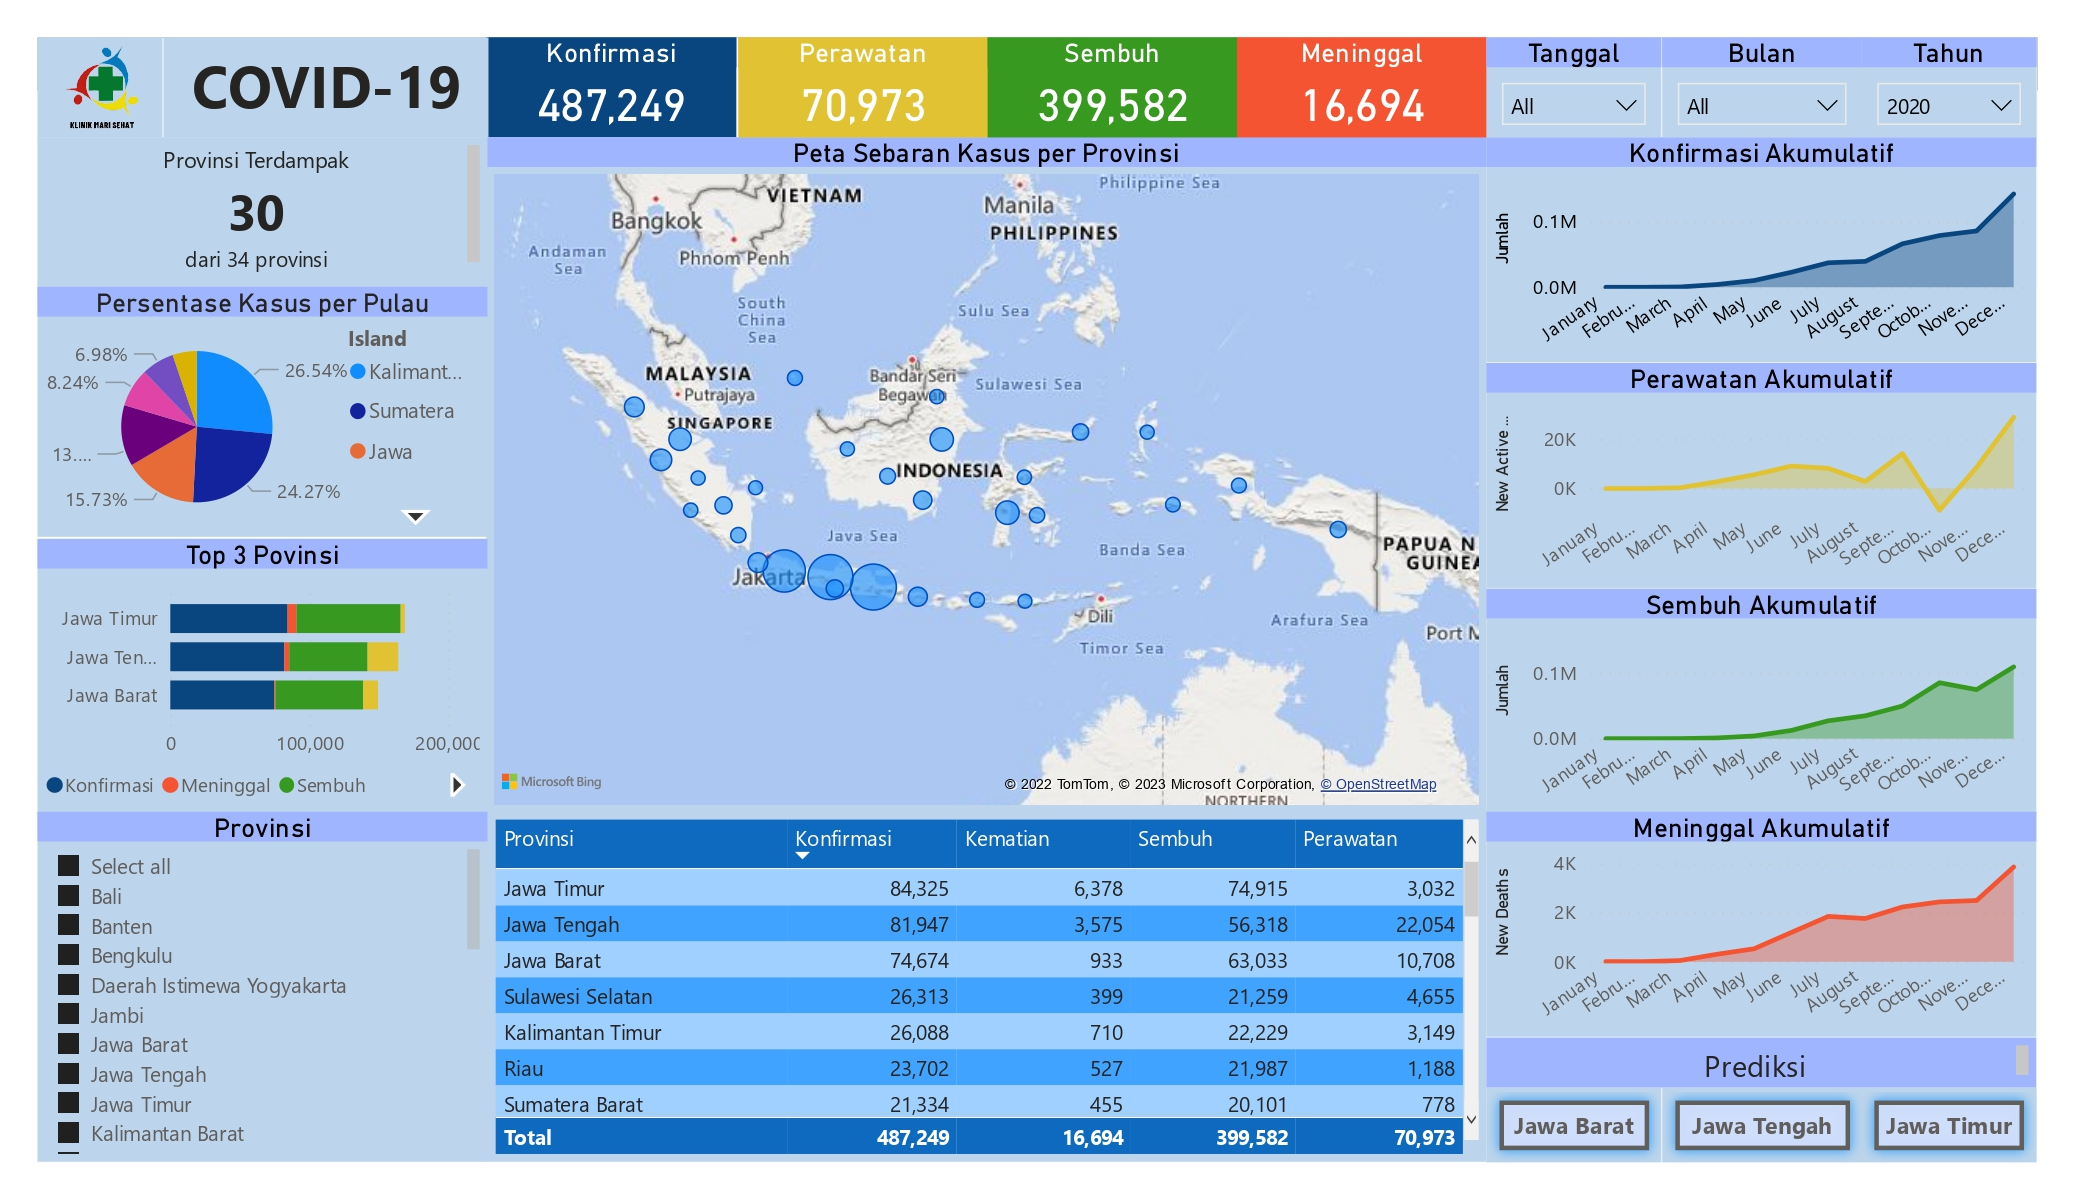

This screenshot's page, from the dashboard's own definition file:
{"tool":"powerbi","page":{"name":"Halaman Utama","canvas":[1280,720],"ordinal":0},"visuals":[{"type":"card","title":"Konfirmasi","fields":{"Values":["Sum(MariSehat_Clean.New Cases)"]},"box":[288,0,160,64],"z":0},{"type":"map","title":"Peta Sebaran Kasus per Provinsi","fields":{"Category":["MariSehat_Clean.Province"],"Size":["Sum(MariSehat_Clean.New Cases)"]},"box":[288,64,640,432],"z":1000},{"type":"tableEx","title":"Deaths by Countries","fields":{"Values":["MariSehat_Clean.Province","Sum(MariSehat_Clean.New Cases)","Sum(MariSehat_Clean.New Deaths)","Sum(MariSehat_Clean.New Recovered)","Sum(MariSehat_Clean.New Active Cases)"]},"box":[288,496,640,224],"z":2000},{"type":"areaChart","title":"Konfirmasi Akumulatif","fields":{"Category":["MariSehat_Clean.Date.Variation.Date Hierarchy.Month"],"Y":["Sum(MariSehat_Clean.New Cases)"]},"box":[928,64,352,144],"z":3000},{"type":"card","title":"Perawatan","fields":{"Values":["Sum(MariSehat_Clean.New Active Cases)"]},"box":[448,0,160,64],"z":4000},{"type":"card","title":"Sembuh","fields":{"Values":["Sum(MariSehat_Clean.New Recovered)"]},"box":[608,0,160,64],"z":5000},{"type":"card","title":"Meninggal","fields":{"Values":["Sum(MariSehat_Clean.New Deaths)"]},"box":[768,0,160,64],"z":6000},{"type":"image","box":[0,0,80,64],"z":7000},{"type":"barChart","title":"Top 3 Povinsi","fields":{"Y":["Sum(MariSehat_Clean.New Cases)","Sum(MariSehat_Clean.New Deaths)","Sum(MariSehat_Clean.New Recovered)","Sum(MariSehat_Clean.New Active Cases)"],"Category":["MariSehat_Clean.Province"]},"box":[0,320,288,176],"z":8000},{"type":"slicer","title":"Bulan","fields":{"Values":["MariSehat_Clean.Month Name"]},"box":[1040,0,128,64],"z":9000},{"type":"slicer","title":"Tanggal","fields":{"Values":["MariSehat_Clean.Day"]},"box":[928,0,112,64],"z":10000},{"type":"slicer","title":"Tahun","fields":{"Values":["MariSehat_Clean.Year"]},"box":[1168,0,112,64],"z":11000},{"type":"textbox","box":[80,0,208,64],"z":12000},{"type":"areaChart","title":"Perawatan Akumulatif","fields":{"Category":["MariSehat_Clean.Date.Variation.Date Hierarchy.Month"],"Y":["Sum(MariSehat_Clean.New Active Cases)"]},"box":[928,208,352,144],"z":13000},{"type":"stackedAreaChart","title":"Sembuh Akumulatif","fields":{"Category":["MariSehat_Clean.Date.Variation.Date Hierarchy.Month"],"Y":["Sum(MariSehat_Clean.New Recovered)"]},"box":[928,352,352,144],"z":14000},{"type":"stackedAreaChart","title":"Meninggal Akumulatif","fields":{"Category":["MariSehat_Clean.Date.Variation.Date Hierarchy.Month"],"Y":["Sum(MariSehat_Clean.New Deaths)"]},"box":[928,496,352,144],"z":15000},{"type":"slicer","title":"Provinsi","fields":{"Values":["MariSehat_Clean.Province"]},"box":[0,496,288,224],"z":16000},{"type":"textbox","box":[0,64,288,96],"z":17000},{"type":"pieChart","title":"Persentase Kasus per Pulau","fields":{"Category":["MariSehat_Clean.Island"],"Y":["Sum(MariSehat_Clean.New Cases per Million)"]},"box":[0,160,288,160],"z":18000},{"type":"actionButton","box":[928,672,112,48],"z":19000},{"type":"actionButton","box":[1040,672,128,48],"z":20000},{"type":"actionButton","box":[1168,672,112,48],"z":21000},{"type":"textbox","box":[928,640,352,32],"z":22000}]}

Visuals, with their boxes in screenshot pixels (x1, y1, x2, y2):
"Konfirmasi" card: [488,38,738,138]
"Peta Sebaran Kasus per Provinsi" map: [488,138,1488,812]
"Deaths by Countries" tableEx: [488,812,1488,1162]
"Konfirmasi Akumulatif" areaChart: [1488,138,2038,362]
"Perawatan" card: [738,38,988,138]
"Sembuh" card: [988,38,1238,138]
"Meninggal" card: [1238,38,1488,138]
image: [38,38,162,138]
"Top 3 Povinsi" barChart: [38,538,488,812]
"Bulan" slicer: [1662,38,1862,138]
"Tanggal" slicer: [1488,38,1662,138]
"Tahun" slicer: [1862,38,2038,138]
textbox: [162,38,488,138]
"Perawatan Akumulatif" areaChart: [1488,362,2038,588]
"Sembuh Akumulatif" stackedAreaChart: [1488,588,2038,812]
"Meninggal Akumulatif" stackedAreaChart: [1488,812,2038,1038]
"Provinsi" slicer: [38,812,488,1162]
textbox: [38,138,488,288]
"Persentase Kasus per Pulau" pieChart: [38,288,488,538]
actionButton: [1488,1088,1662,1162]
actionButton: [1662,1088,1862,1162]
actionButton: [1862,1088,2038,1162]
textbox: [1488,1038,2038,1088]
